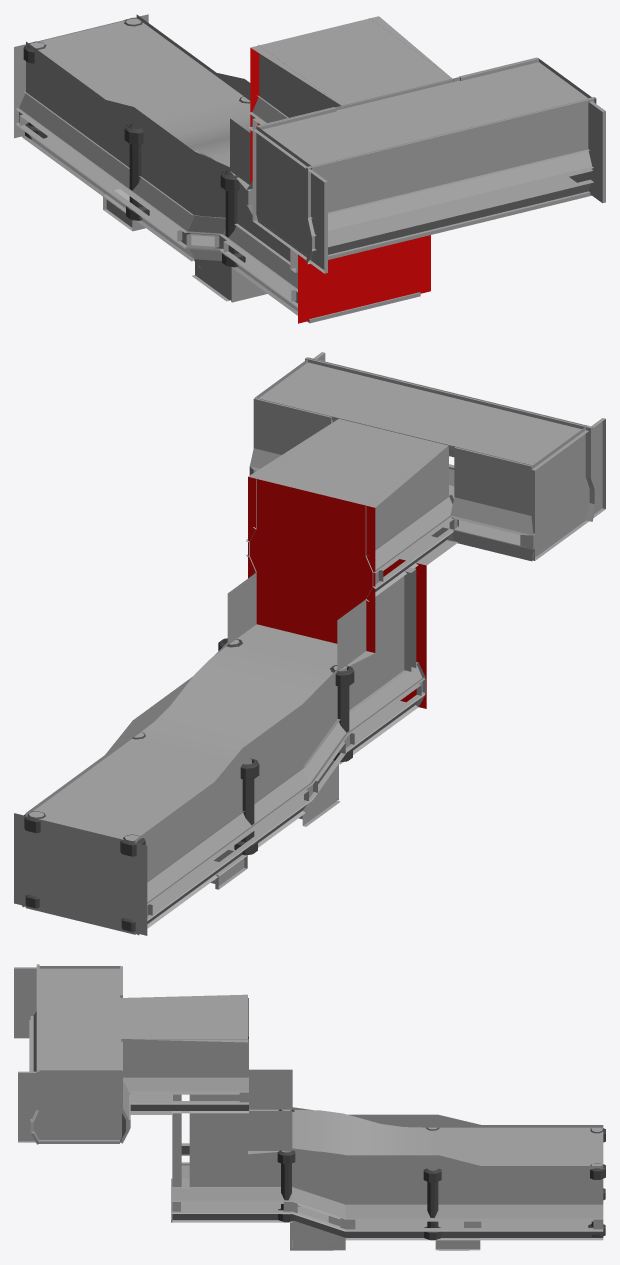
File: TutorialPrueba 1.fbx
3 renders of one model, top to bottom at view 1: azimuth 30°, elevation 25°; view 2: azimuth 150°, elevation 25°; view 3: azimuth 270°, elevation 25°, orthographic. The views are drawn at different scales.
Parts seen in each view (by area): view 1: polySurface12, polySurface25, polySurface28, group5_pCube4, polySurface30, polySurface27, group3_pCube7, polySurface21, group3_pCube6, polySurface19, group5_pCube5, polySurface26 (+12 smaller); view 2: polySurface12, group5_pCube4, polySurface28, polySurface10, polySurface24, group3_pCube7, polySurface27, group3_pCube6, group5_pCube5, polySurface23, polySurface19, group1_pCube8 (+6 smaller); view 3: group1_pCube8, polySurface12, polySurface28, polySurface26, group1_pCube9, polySurface22, group1_pCube12, group5_pCube4, group1_pCube7, group1_pCube11, polySurface27, polySurface31 (+11 smaller).
Boxes of the visible parts, x1,y1,x2,y2 form: polySurface12: (30, 16, 452, 189); polySurface25: (306, 97, 596, 264); polySurface28: (257, 58, 592, 169); group5_pCube4: (26, 41, 297, 272); polySurface30: (298, 235, 430, 323); polySurface27: (252, 129, 327, 273); group3_pCube7: (16, 91, 297, 290); polySurface21: (258, 177, 591, 261); group3_pCube6: (15, 108, 297, 306); polySurface19: (16, 124, 297, 315); group5_pCube5: (258, 45, 340, 117); polySurface26: (536, 62, 605, 203); polySurface12: (27, 419, 447, 840); group5_pCube4: (135, 567, 416, 880); polySurface28: (255, 358, 586, 467); polySurface10: (14, 813, 147, 935); polySurface24: (450, 446, 535, 561); group3_pCube7: (135, 662, 425, 905); polySurface27: (531, 418, 605, 560); group3_pCube6: (142, 678, 425, 920); group5_pCube5: (365, 445, 448, 555); polySurface23: (249, 397, 332, 475); polySurface19: (135, 694, 425, 935); group1_pCube8: (25, 572, 256, 815); group1_pCube8: (172, 1111, 603, 1204); polySurface12: (120, 994, 603, 1165); polySurface28: (38, 966, 121, 1072); polySurface26: (18, 1071, 121, 1142); group1_pCube9: (172, 1187, 603, 1218); polySurface22: (172, 1213, 603, 1250); group1_pCube12: (121, 1039, 248, 1077); group5_pCube4: (172, 1069, 603, 1154); group1_pCube7: (172, 1200, 603, 1230); group1_pCube11: (123, 1077, 248, 1091); polySurface27: (14, 967, 36, 1038); polySurface31: (130, 1103, 248, 1113).
Bounding box in the file's own units: 42.12 × 38.38 × 97.22.
